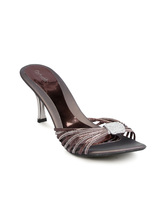shoes: (15, 67, 156, 164)
